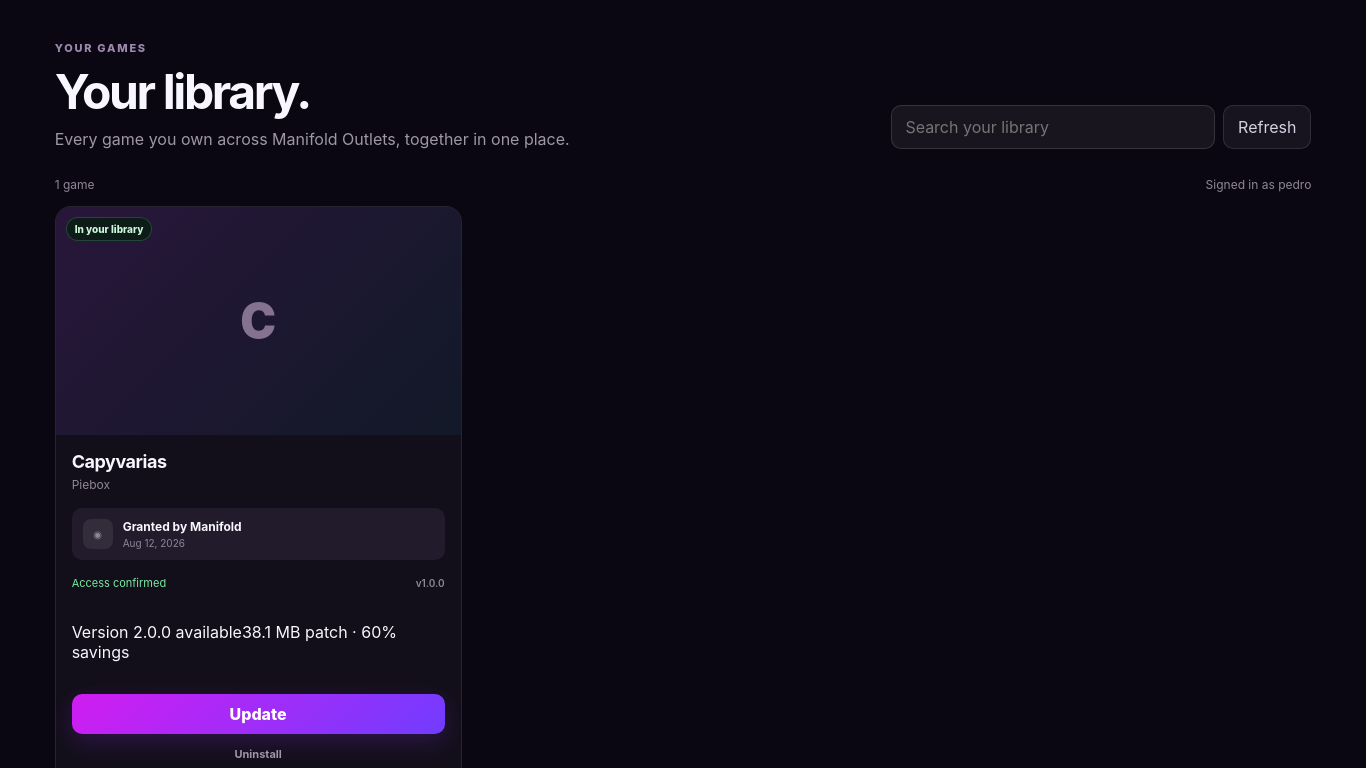
it: shows patch size, savings, every update phase, and checks on refresh and interval
Check: the text "Version 2.0.0 available" is shown, box [72,622,242,642]
Check: the text "38.1 MB patch · 60% savings" is shown, box [72,622,397,662]
What coordinates should you click on to do the following:
click the button "Refresh"
I would click on:
 (1267, 127)
Its box is [1223,105,1311,149].
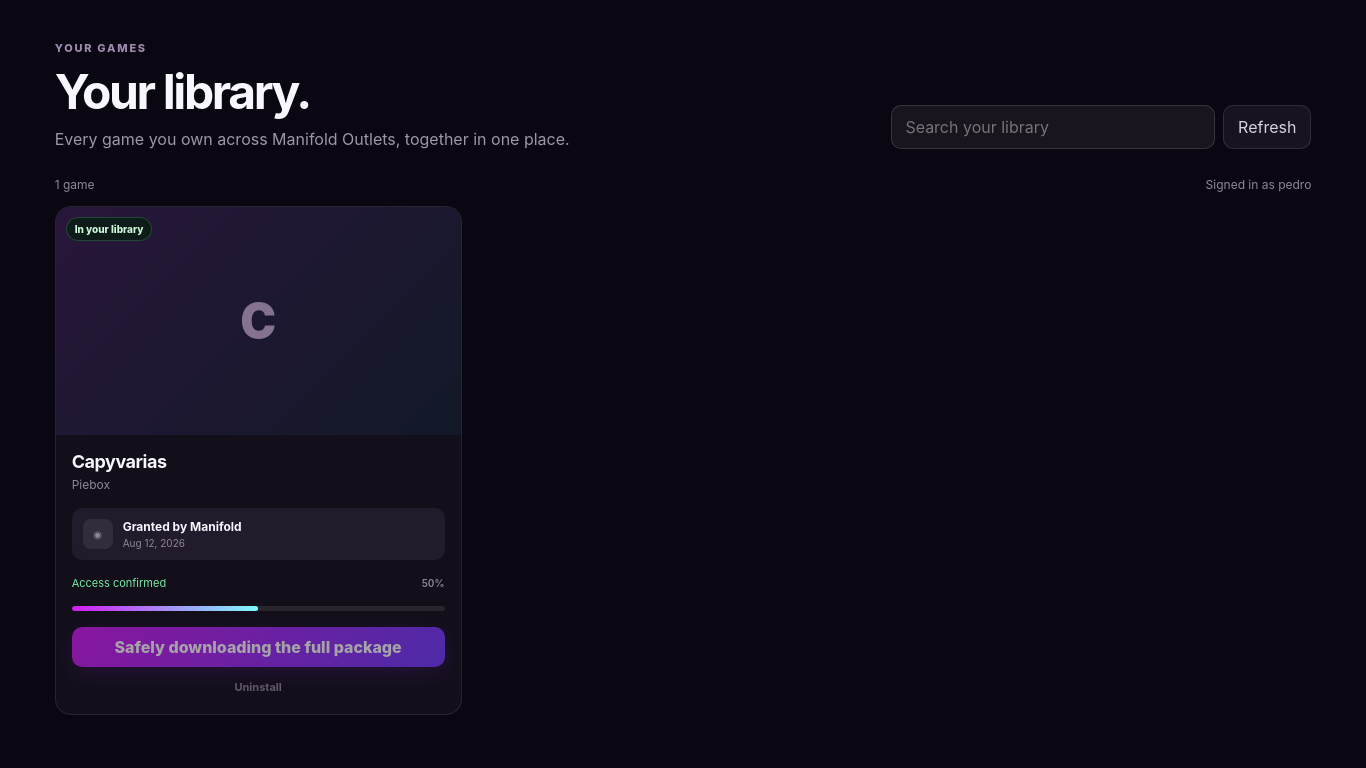
Check: the button named "Preparing update" is disabled, box [72,627,444,667]
Check: the button named "Downloading update" is disabled, box [72,627,444,667]
Check: the button named "Applying update" is disabled, box [72,627,444,667]
